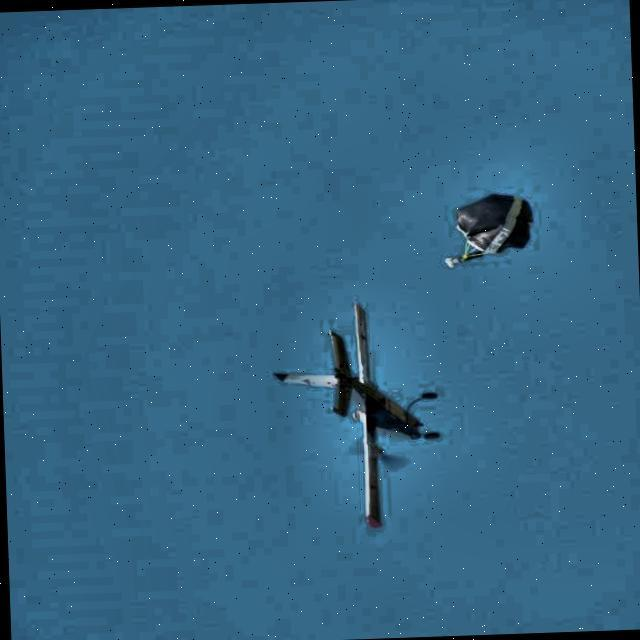iha: (262, 288, 448, 542)
